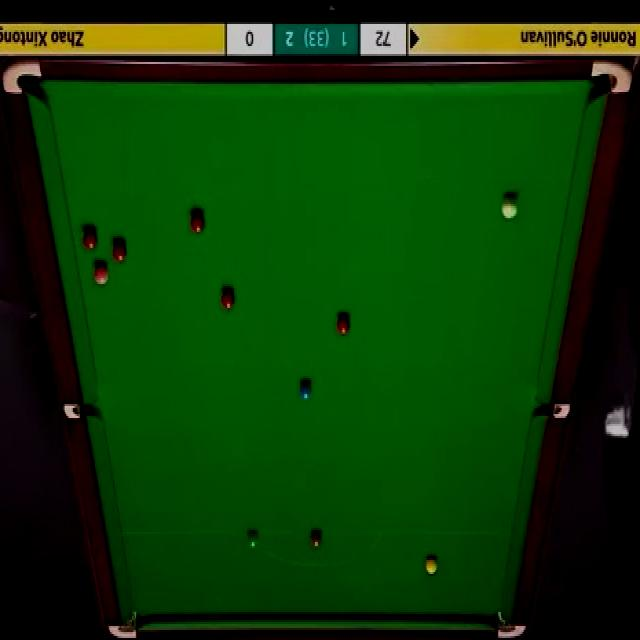blue-ball: (299, 379, 312, 401)
brown-ball: (310, 530, 322, 547)
green-ball: (247, 530, 258, 550)
pink-ball: (92, 262, 109, 287)
red-ball: (189, 210, 207, 235), (220, 288, 235, 313), (112, 241, 127, 262), (337, 313, 350, 336), (83, 227, 96, 249)
white-ball: (501, 192, 520, 220)
yellow-ball: (424, 554, 438, 574)
